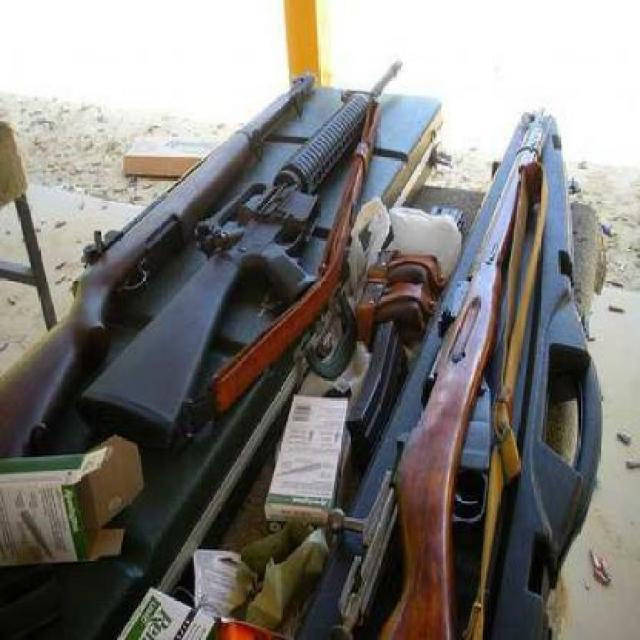weapon: (0, 61, 318, 458), (80, 51, 404, 437), (401, 104, 548, 640)
